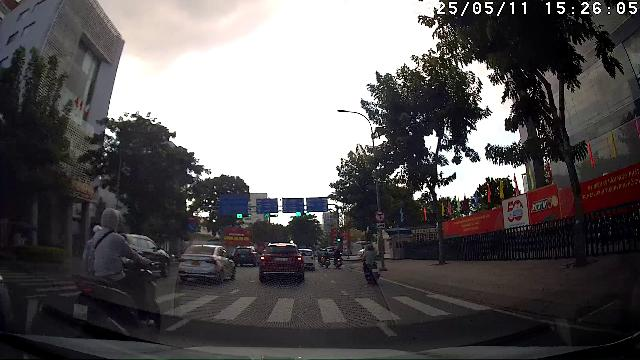137-cam-re-trai-va-re-phai: (374, 210, 386, 221)
